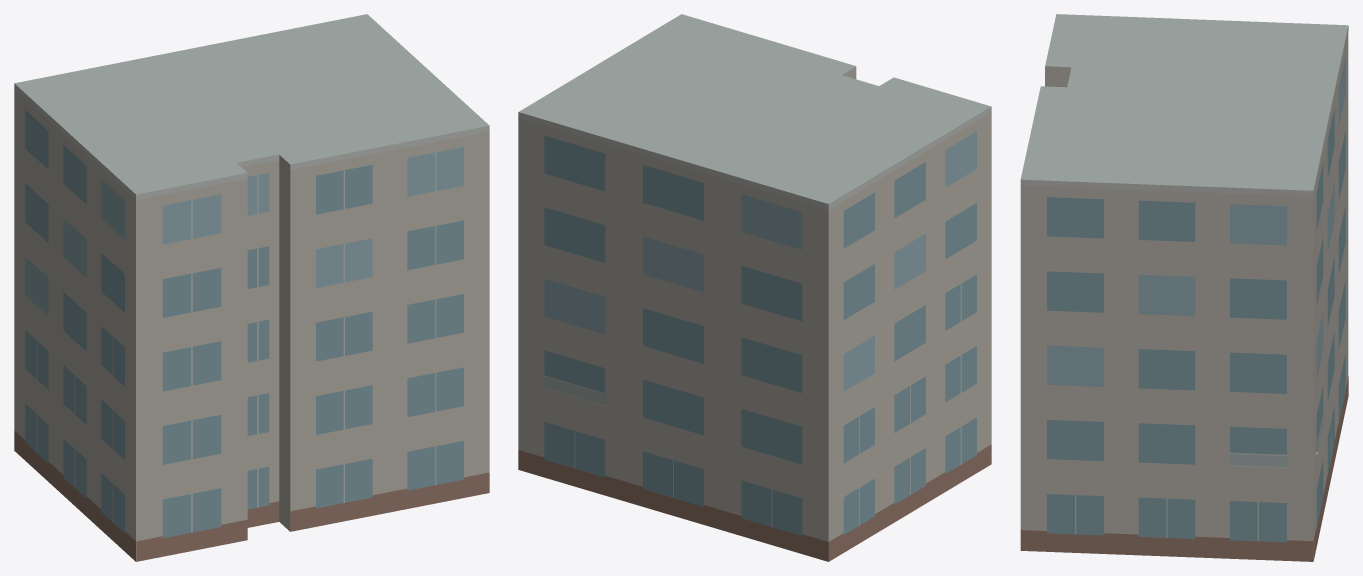
File: survey-upis-32719861.glb
3 views of the same model, side by side, from view 1: azimuth 30°, elevation 25°; view 2: azimuth 150°, elevation 25°; view 3: azimuth 270°, elevation 25° (orthographic). The views are drawn at different scales.
Visible parts, largest first — view 1: survey-upis-32719861.tmp; view 2: survey-upis-32719861.tmp; view 3: survey-upis-32719861.tmp.
Part boxes in pixels (x1,y1,x2,y2): survey-upis-32719861.tmp: [14, 14, 489, 561]; survey-upis-32719861.tmp: [518, 14, 991, 561]; survey-upis-32719861.tmp: [1020, 14, 1348, 561].
Bounding box in the file's own units: 15.84 × 15.5 × 12.42.
